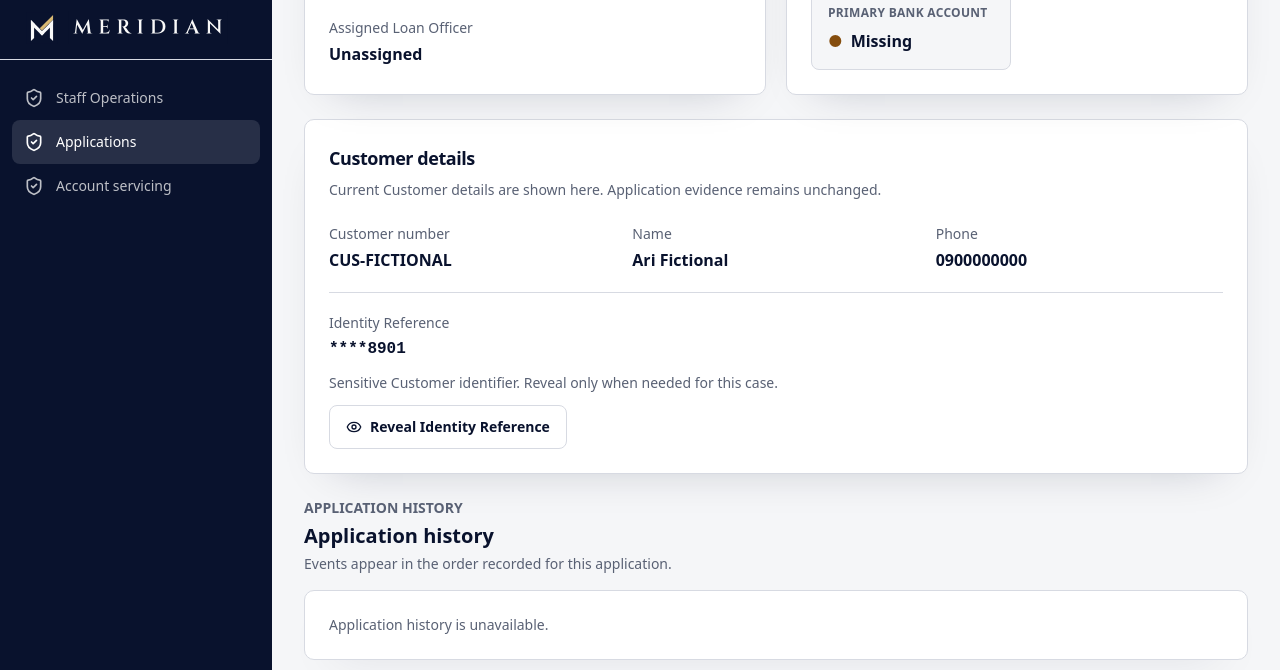
it: Application Case protected Identity Reference › keeps unknown-result reveal blocked when case refresh fails, then unlocks after a successful refresh
(page scrolled)
Click the button "Reveal Identity Reference". click: [448, 427]
box: [329,405,567,449]
(page scrolled)
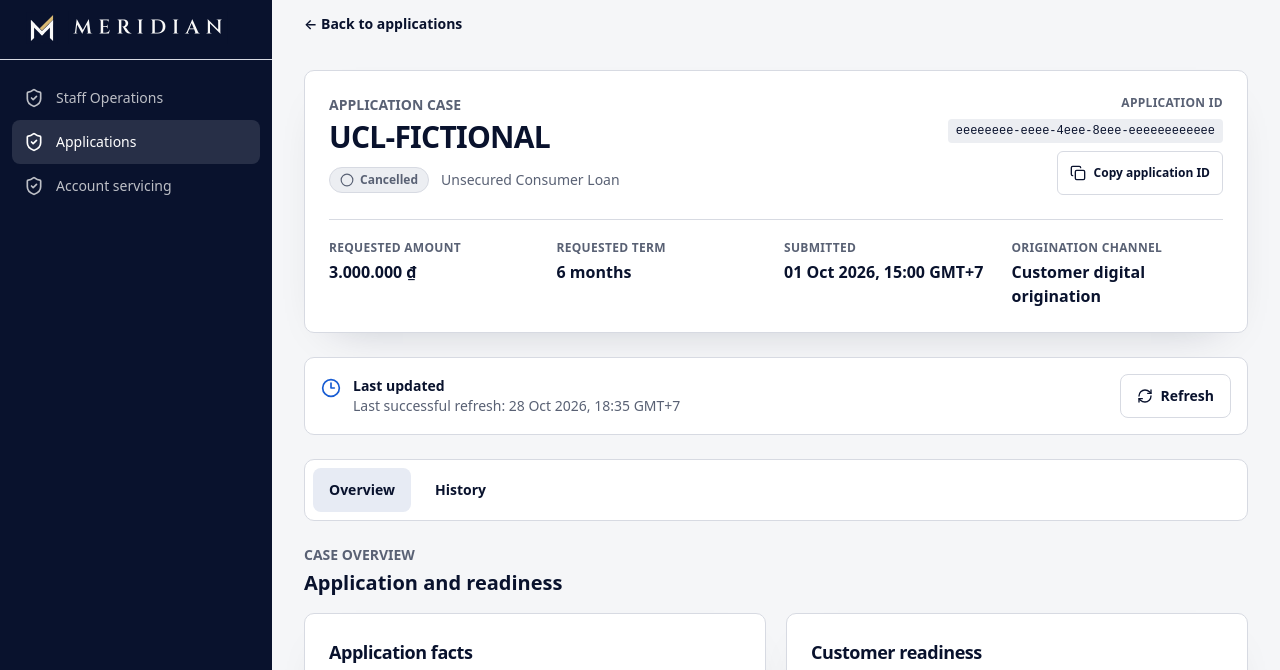
Click the button "Refresh". click: [1175, 396]
box: [1120,374,1231,418]
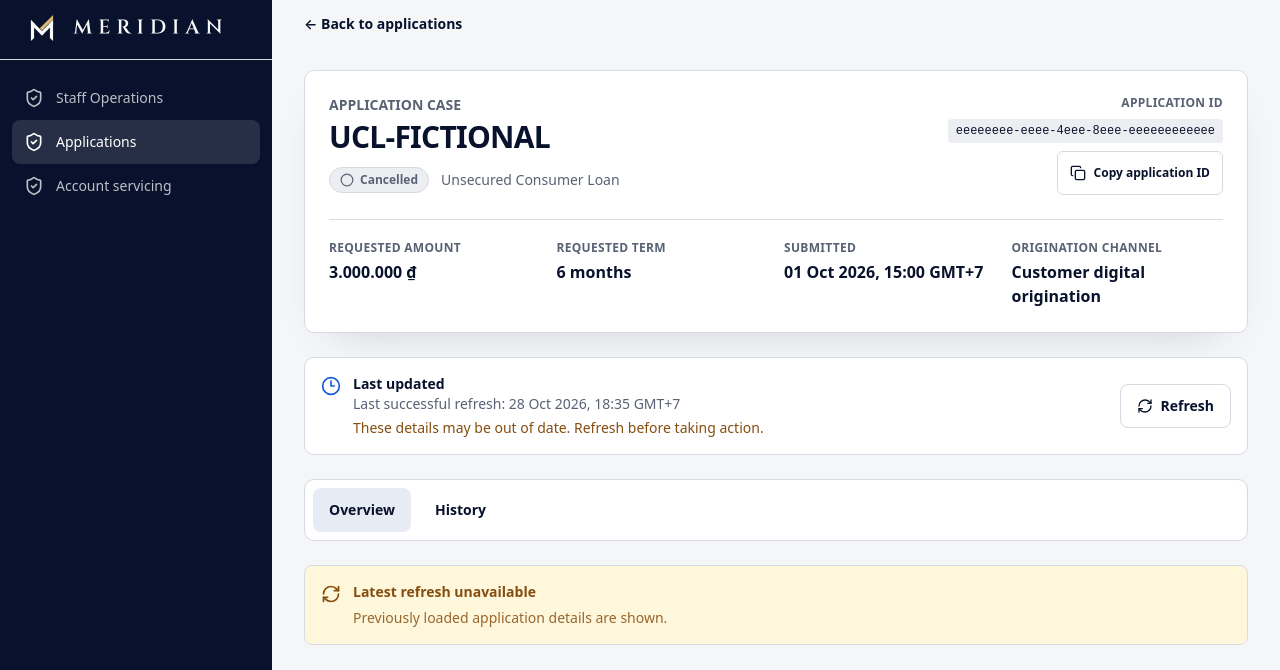
Check: the heading "Latest refresh unavailable" is shown, box [353,582,536,601]
Click the button "Refresh". click: [1175, 406]
box: [1120,384,1231,428]
(page scrolled)
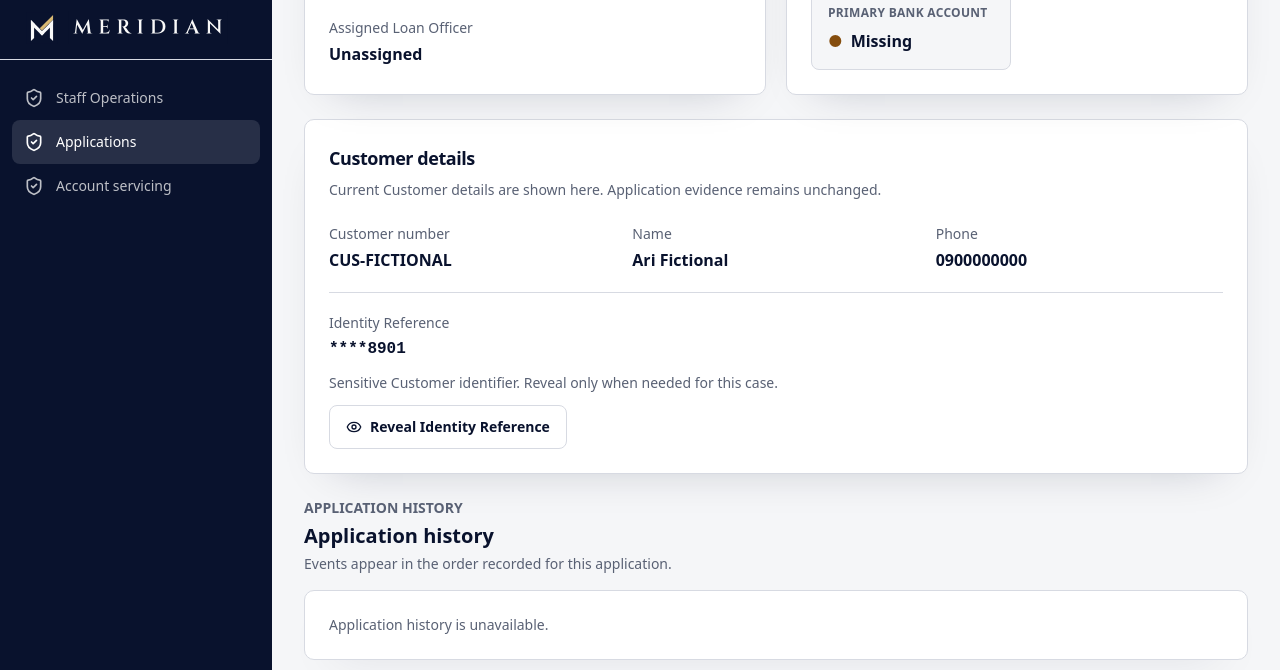
Check: the button "Reveal Identity Reference" is enabled, box [329,405,567,449]
